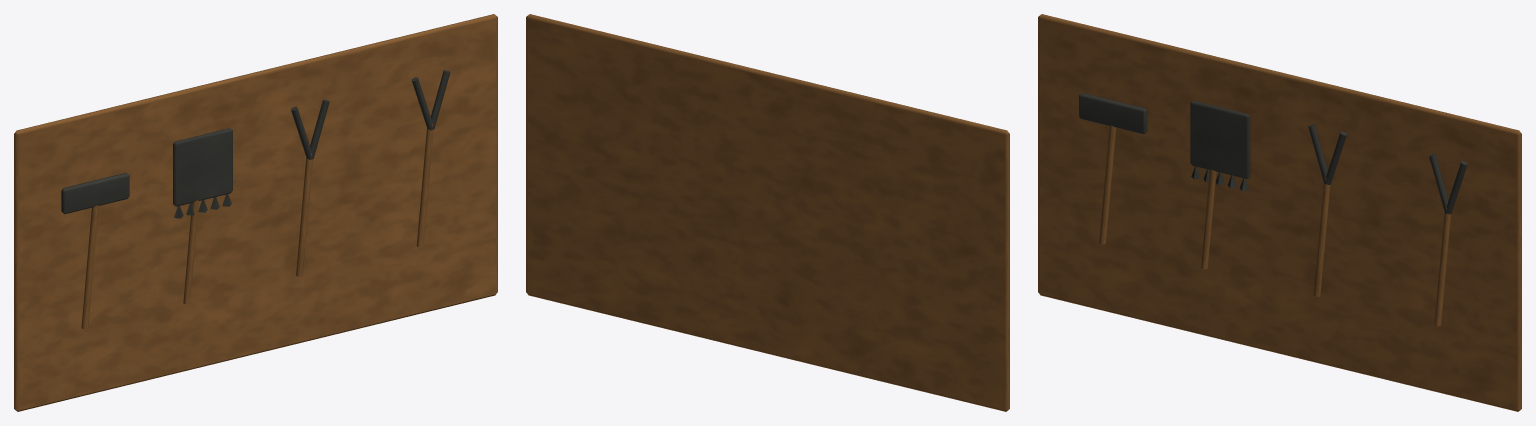
The model's file is Furn_ToolBoard.fbx.
The picture shows the model from 3 angles, left to right: view 1: azimuth 30°, elevation 25°; view 2: azimuth 150°, elevation 25°; view 3: azimuth 330°, elevation 25°; orthographic projection.
Visible parts, largest first — view 1: Furn_ToolBoard_Mesh; view 2: Furn_ToolBoard_Mesh; view 3: Furn_ToolBoard_Mesh.
Boxes of the visible parts, x1,y1,x2,y2 form: Furn_ToolBoard_Mesh: (14, 14, 497, 411); Furn_ToolBoard_Mesh: (526, 14, 1009, 411); Furn_ToolBoard_Mesh: (1038, 14, 1521, 411).
Size of the model in its own units: 1.8 by 1 by 0.05.
Materials: 2 (2 with a texture image).
